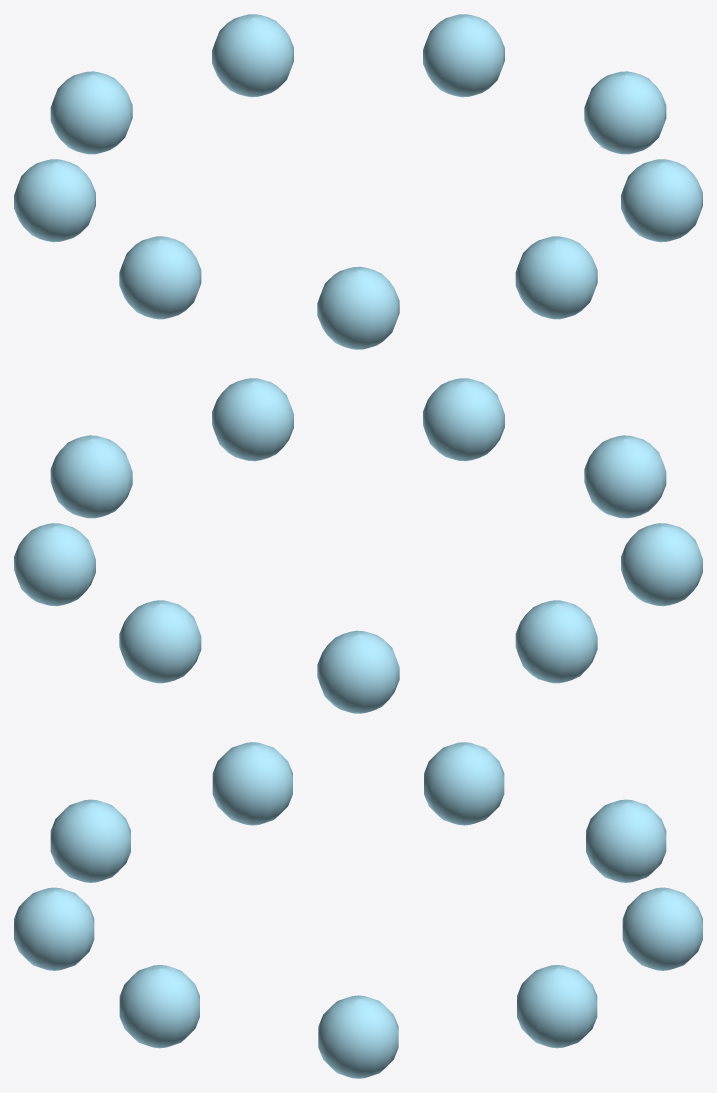
Rendered from MoonOrbs.obj.
3 renders of one model, top to bottom at view 1: azimuth 30°, elevation 25°; view 2: azimuth 150°, elevation 25°; view 3: azimuth 270°, elevation 25°, orthographic.
Visible parts, largest first — view 1: MoonOrbs; view 2: MoonOrbs; view 3: MoonOrbs.
Part boxes in pixels (left/top/right/bottom): MoonOrbs: left=14, top=14, right=702, bottom=349; MoonOrbs: left=14, top=378, right=702, bottom=713; MoonOrbs: left=14, top=742, right=702, bottom=1078.
Bounding box in the file's own units: 0.9444 × 0.116 × 0.9544.
